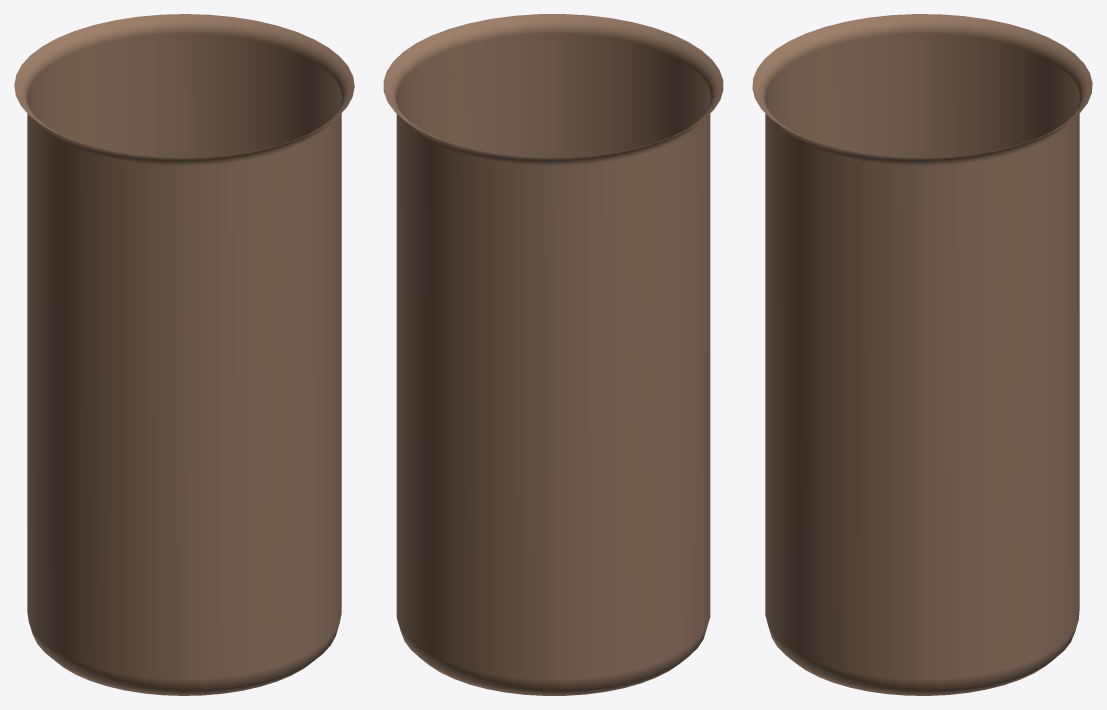
Rendered from KDecor_Glossy_Canyon_Ice_Bucke_001_0.obj.
3 renders of one model, left to right at view 1: azimuth 30°, elevation 25°; view 2: azimuth 150°, elevation 25°; view 3: azimuth 270°, elevation 25°, orthographic.
Visible parts, largest first — view 1: KDecor_Glossy_Canyon_Ice_Bucke_001_0; view 2: KDecor_Glossy_Canyon_Ice_Bucke_001_0; view 3: KDecor_Glossy_Canyon_Ice_Bucke_001_0.
Boxes of the visible parts, x1,y1,x2,y2 form: KDecor_Glossy_Canyon_Ice_Bucke_001_0: (14, 14, 354, 695); KDecor_Glossy_Canyon_Ice_Bucke_001_0: (383, 14, 723, 695); KDecor_Glossy_Canyon_Ice_Bucke_001_0: (752, 14, 1092, 695).
Bounding box in the file's own units: 0.118 × 0.2117 × 0.118.
